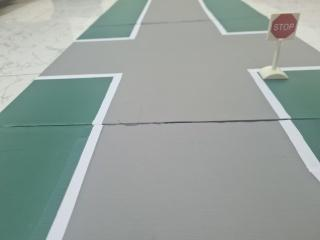stop: (267, 10, 300, 45)
